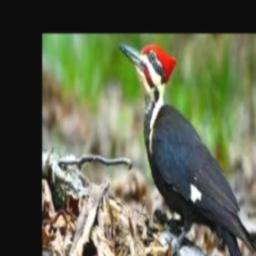Woodpecker: (119, 43, 256, 256)
